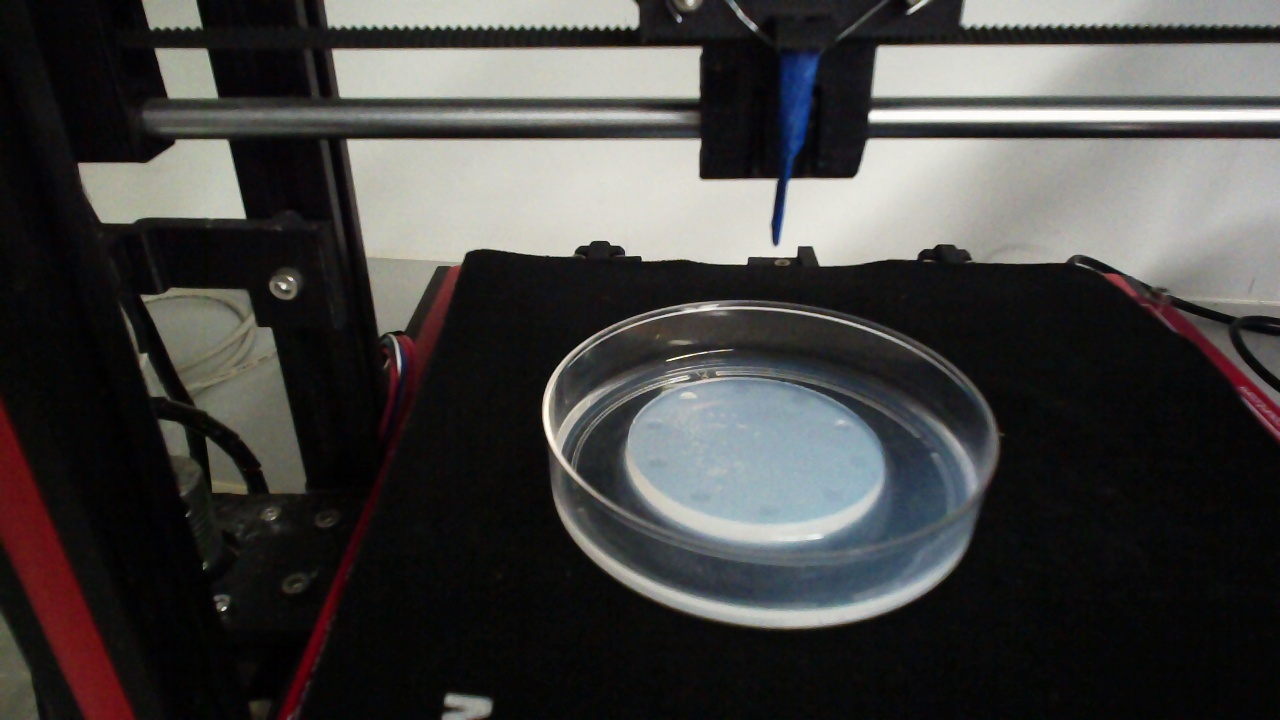groove: (821, 489, 848, 506), (688, 489, 713, 507), (643, 415, 665, 435), (644, 454, 668, 472), (728, 379, 750, 398), (757, 501, 781, 518), (678, 390, 699, 409), (848, 453, 868, 470), (787, 391, 809, 406), (832, 418, 852, 433)
needle: (772, 52, 817, 245)
